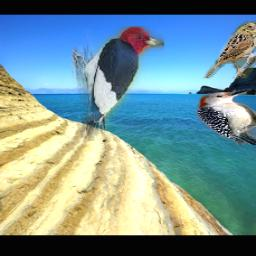Sparrow: (201, 22, 256, 79)
Woodpecker: (73, 26, 165, 141), (198, 90, 256, 146)
